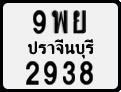letters: (51, 9, 69, 35), (24, 60, 41, 86), (72, 9, 88, 35), (42, 60, 58, 86), (61, 60, 77, 85), (32, 9, 47, 35), (79, 61, 94, 86)
province: (26, 38, 95, 60)
